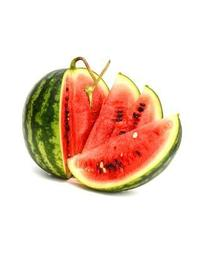watermelon: (19, 65, 185, 191)
